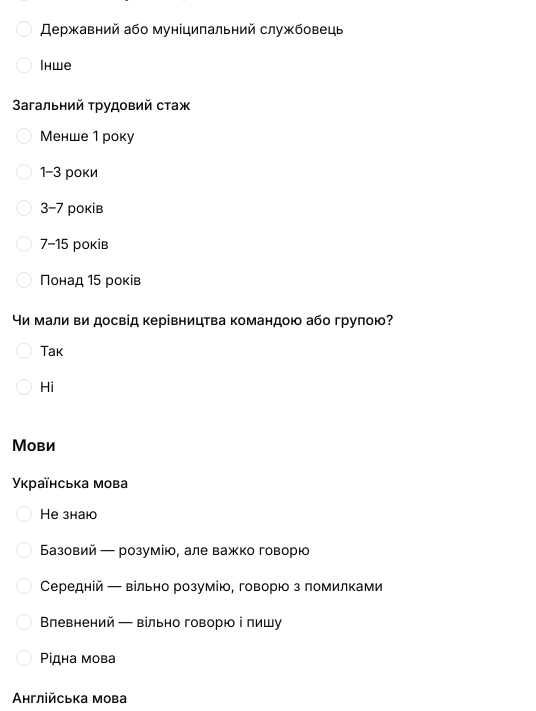
Test case: BasicInfoBlock — conditional team size › hides team size question after switching to Ні
(page scrolled)
Click the text "Так" at (52, 351), box [40, 341, 64, 361]
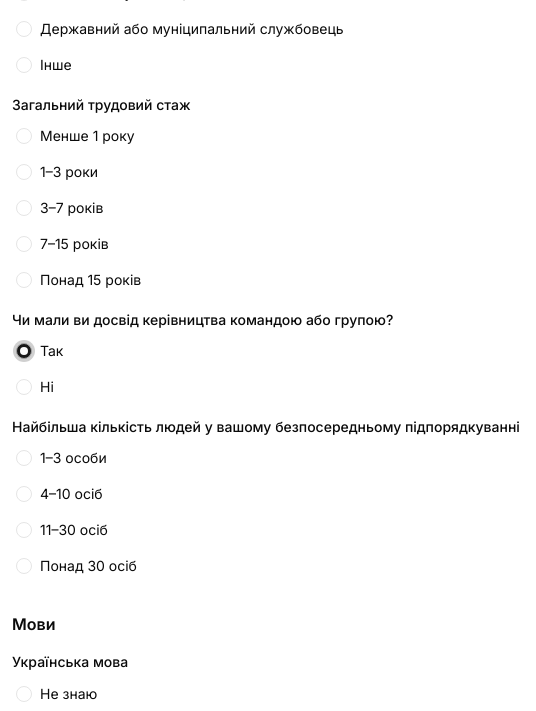
expect the text "Найбільша кількість людей у вашому безпосередньому підпорядкуванні" is shown: met, box [12, 418, 520, 435]
Click the text "Ні" at (47, 387), box [40, 377, 54, 397]
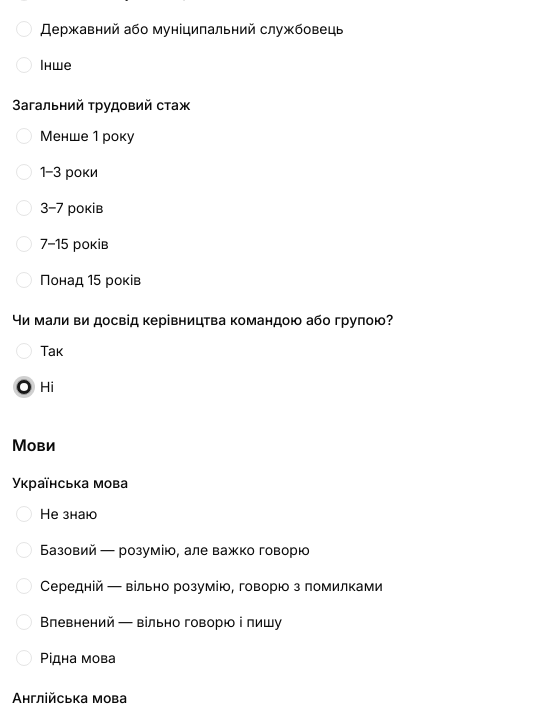
expect the text "Найбільша кількість людей у вашому безпосередньому підпорядкуванні" is gone: met
